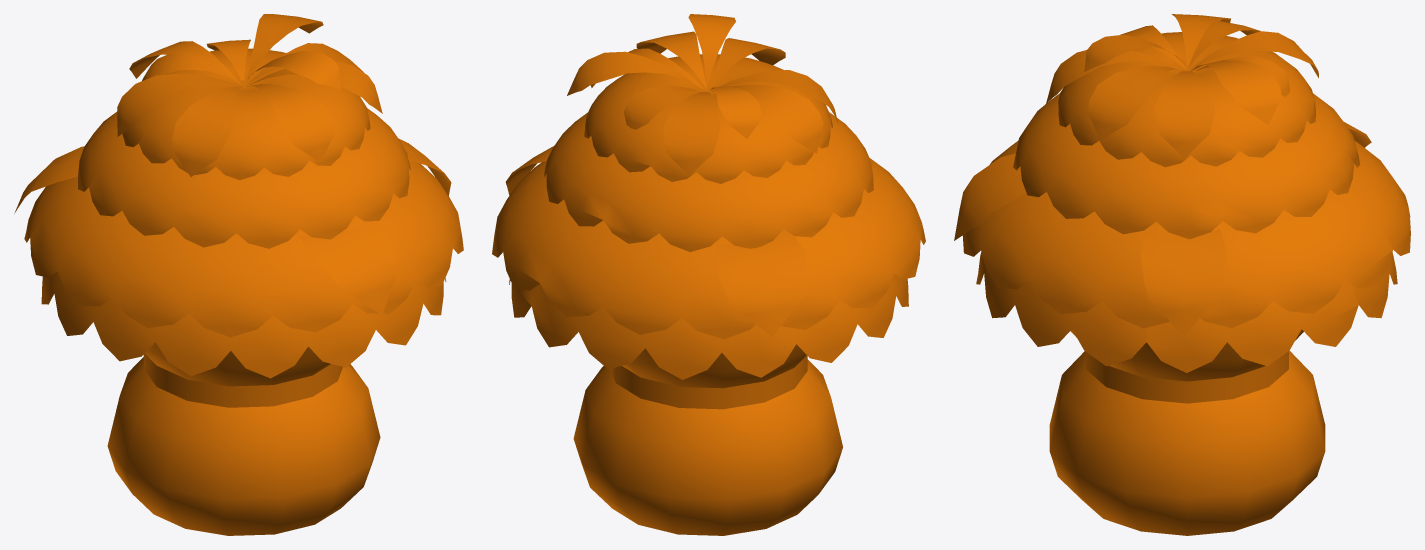
File: SM_Plants005.fbx
The picture shows the model from 3 angles, left to right: view 1: azimuth 30°, elevation 25°; view 2: azimuth 150°, elevation 25°; view 3: azimuth 270°, elevation 25°; orthographic projection. The views are drawn at different scales.
Parts seen in each view (by area): view 1: SM_Plants005; view 2: SM_Plants005; view 3: SM_Plants005.
Part boxes in pixels (left/top/right/bottom): SM_Plants005: left=14, top=14, right=463, bottom=535; SM_Plants005: left=492, top=14, right=925, bottom=535; SM_Plants005: left=954, top=14, right=1410, bottom=535.
Size of the model in its own units: 136 by 149 by 133.
